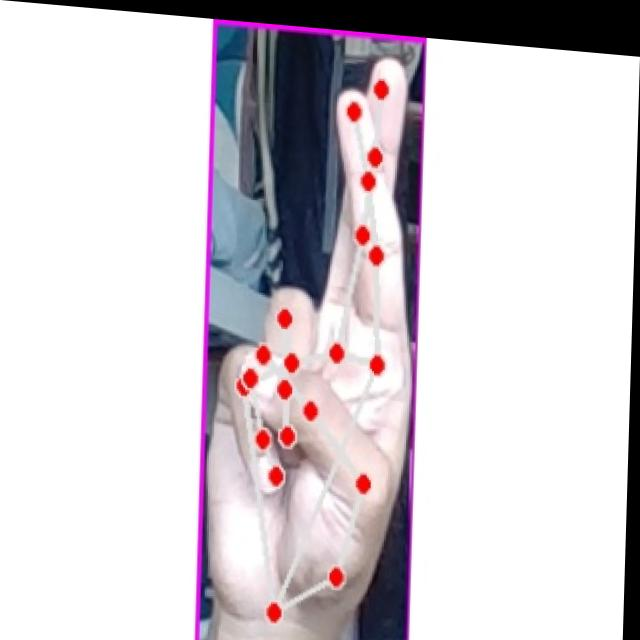R: (209, 34, 421, 640)
